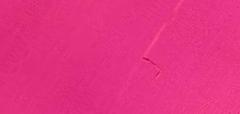snag: (136, 52, 166, 80)
